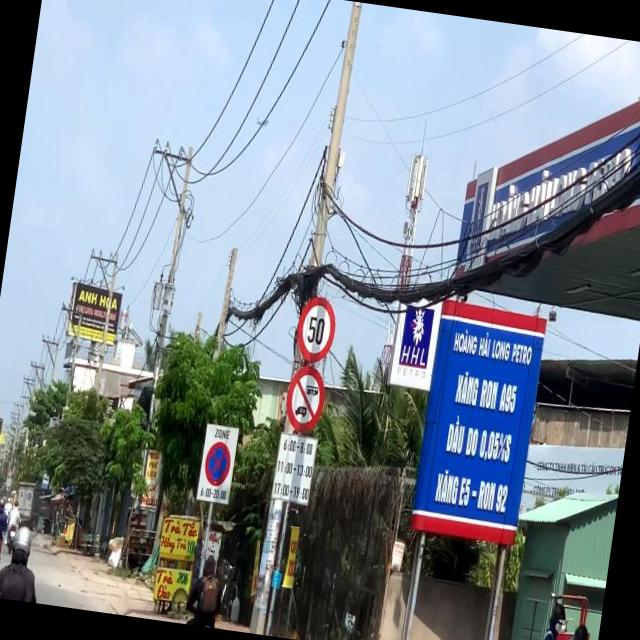P-127: (292, 292, 340, 366)
